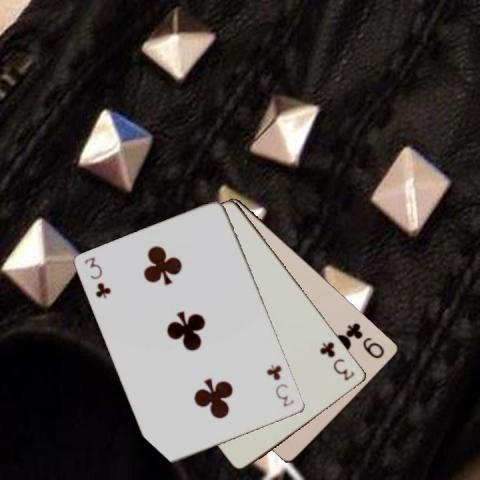3c: (316, 339, 356, 382), (264, 361, 296, 408), (81, 254, 112, 300)
9c: (345, 319, 386, 361)
